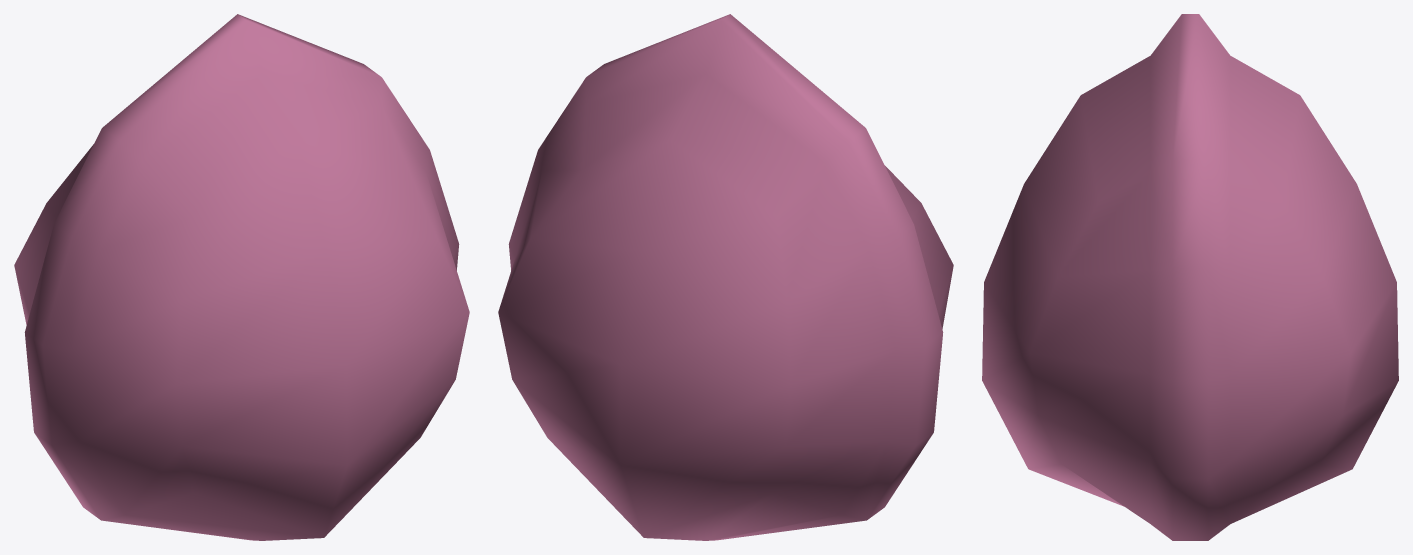
Rendered from planetPlant_seed.fbx.
The picture shows the model from 3 angles, left to right: view 1: azimuth 30°, elevation 25°; view 2: azimuth 150°, elevation 25°; view 3: azimuth 270°, elevation 25°; orthographic projection.
Visible parts, largest first — view 1: seed_planet; view 2: seed_planet; view 3: seed_planet.
Part boxes in pixels (box(x1,y1,x2,y2)): seed_planet: box(14, 14, 469, 540); seed_planet: box(498, 14, 953, 540); seed_planet: box(982, 14, 1398, 540).
Bounding box in the file's own units: 1.01 × 1.2 × 0.8894.
